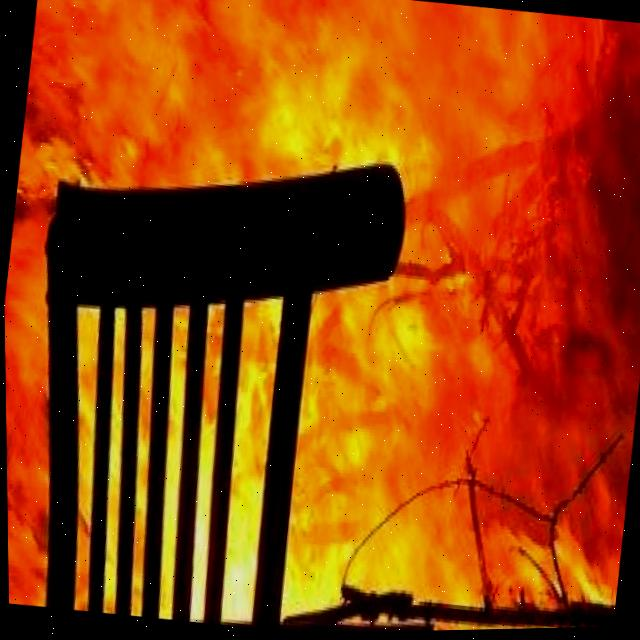fire: (3, 0, 640, 633), (54, 310, 280, 621)
